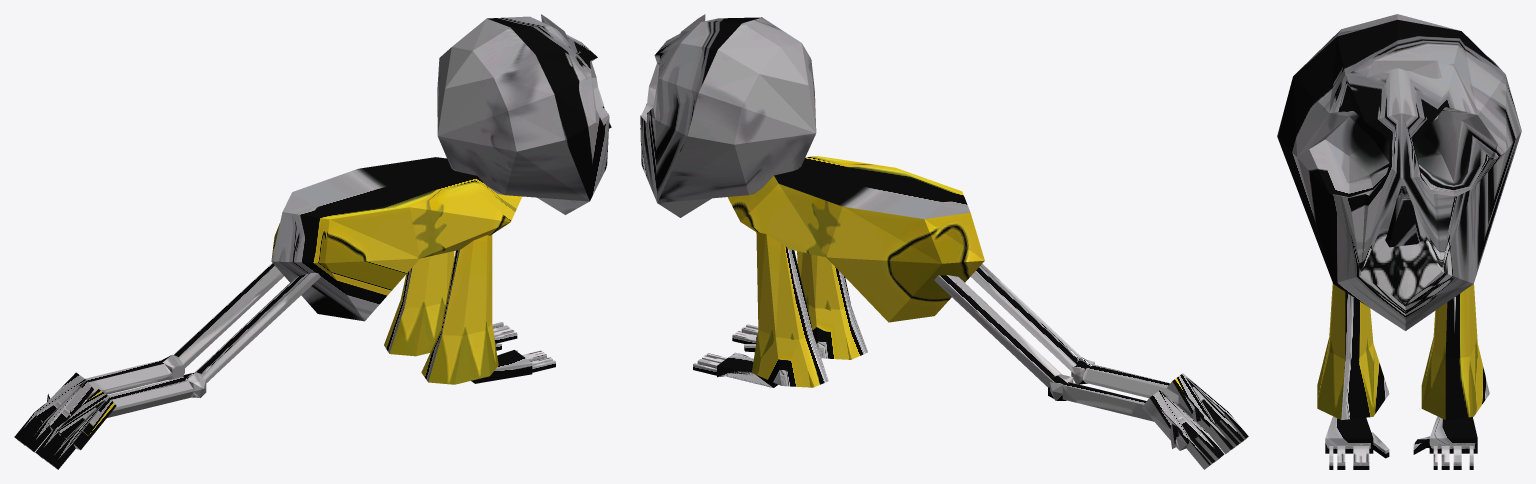
File: Oldguy7.glb
The picture shows the model from 3 angles, left to right: view 1: azimuth 30°, elevation 25°; view 2: azimuth 150°, elevation 25°; view 3: azimuth 270°, elevation 25°; orthographic projection. The views are drawn at different scales.
Parts seen in each view (by area): view 1: Oldguy7; view 2: Oldguy7; view 3: Oldguy7.
Part boxes in pixels (x1=…): Oldguy7: x1=14, y1=14, x2=611, y2=469; Oldguy7: x1=640, y1=14, x2=1248, y2=469; Oldguy7: x1=1277, y1=14, x2=1521, y2=469.
Size of the model in its own units: 110 by 59.57 by 30.24.
1 material, 1 textured.
